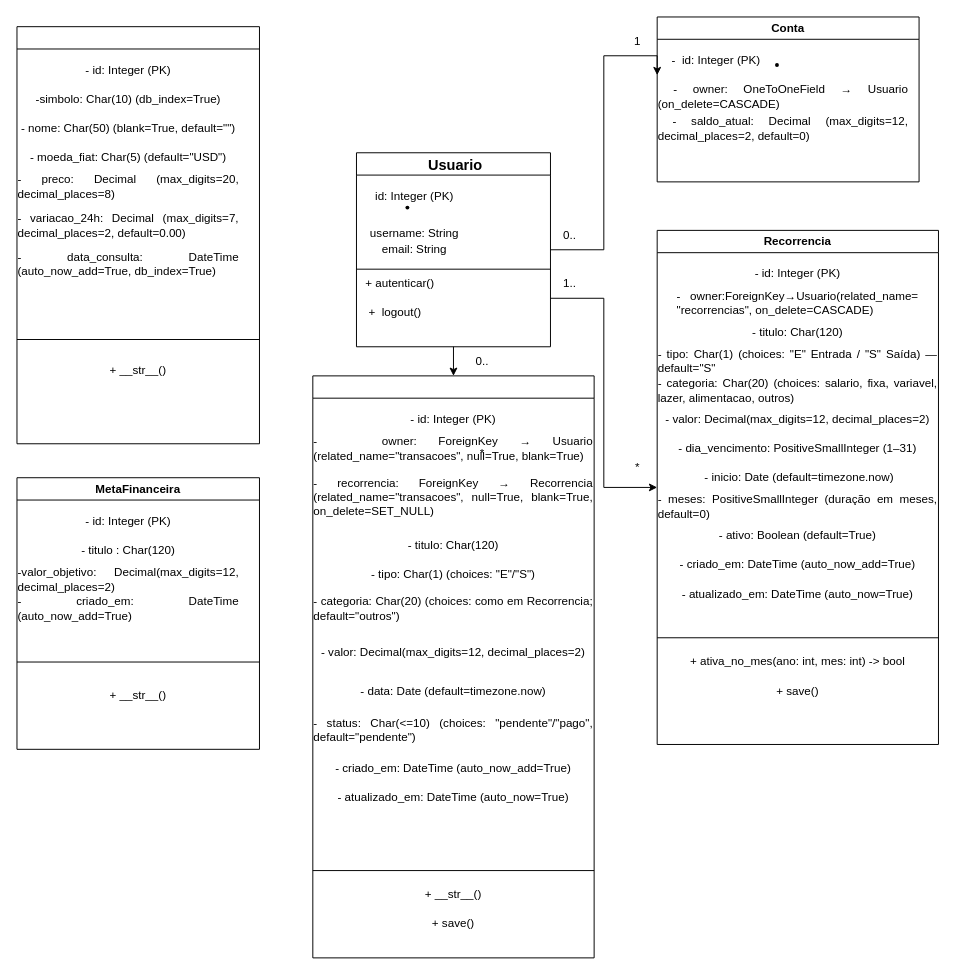
The diagram is 956 pixels wide and 975 high, and some of its shapes have lost their labels. Each missing label, with the box of its shape:
CotacaoCripto: (16, 26, 259, 444)
Transacao: (312, 375, 594, 958)
